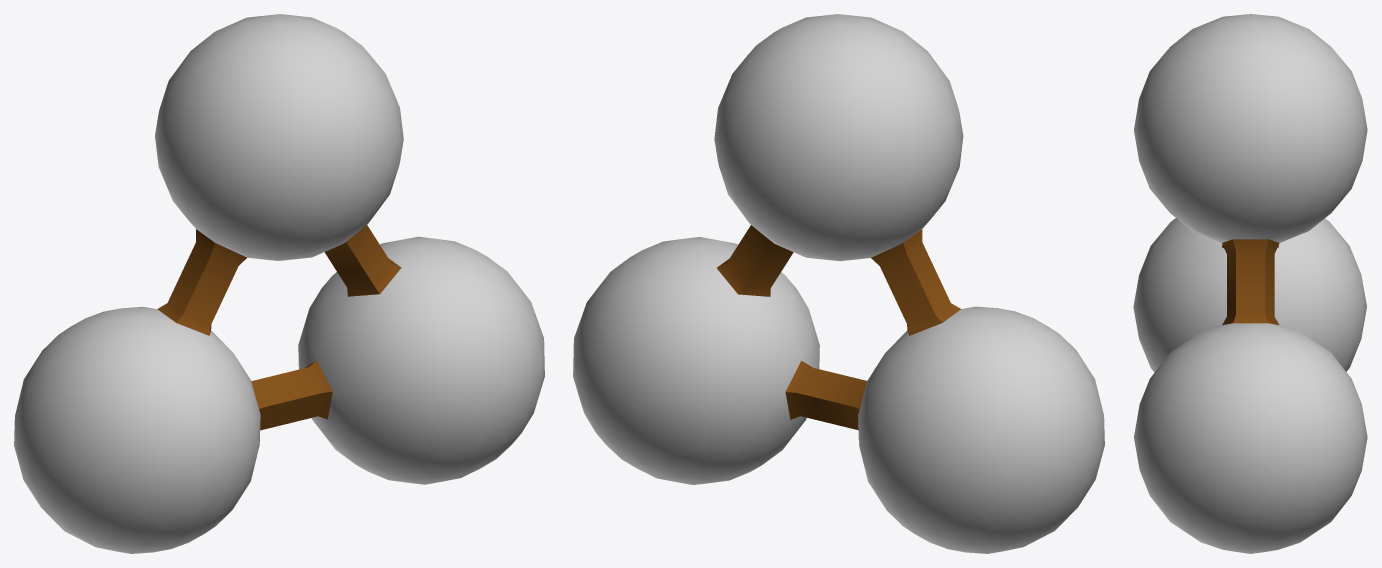
Rendered from Health_balls_5.fbx.
3 views of the same model, side by side, from view 1: azimuth 30°, elevation 25°; view 2: azimuth 150°, elevation 25°; view 3: azimuth 270°, elevation 25° (orthographic). The views are drawn at different scales.
Visible parts, largest first — view 1: Glass, Connectors; view 2: Glass, Connectors; view 3: Glass, Connectors.
Boxes of the visible parts, bbox=[...] form: Glass: bbox=[14, 14, 544, 553]; Connectors: bbox=[157, 225, 401, 430]; Glass: bbox=[573, 14, 1104, 553]; Connectors: bbox=[717, 225, 960, 430]; Glass: bbox=[1133, 14, 1367, 553]; Connectors: bbox=[1222, 239, 1279, 324].
Bounding box in the file's own units: 487 × 450 × 210.
